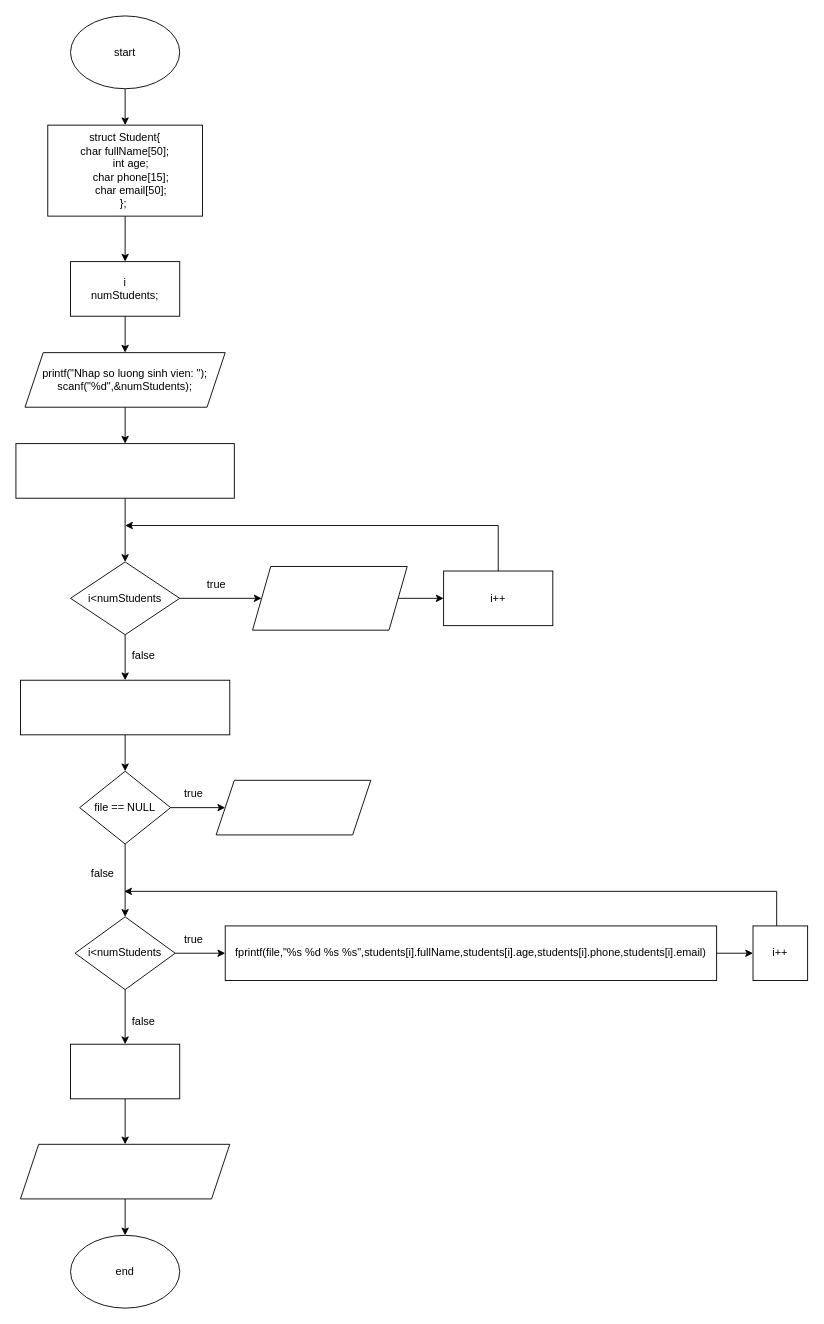
This 824x1324 diagram has some shape labels left out. Each missing label, with the box of its shape:
da ghi thong tin sinh vien vao file students.txt: (20, 1143, 230, 1199)
fclose(file): (70, 1043, 180, 1099)
FILE *file = fopen("students.txt","w+"): (20, 679, 230, 735)
Không the mo file de ghi.: (215, 779, 371, 835)
struct Student students[numStudents]: (15, 443, 234, 498)
students[i].fullName students[i].age students[i].phone students[i].email: (252, 566, 407, 630)
